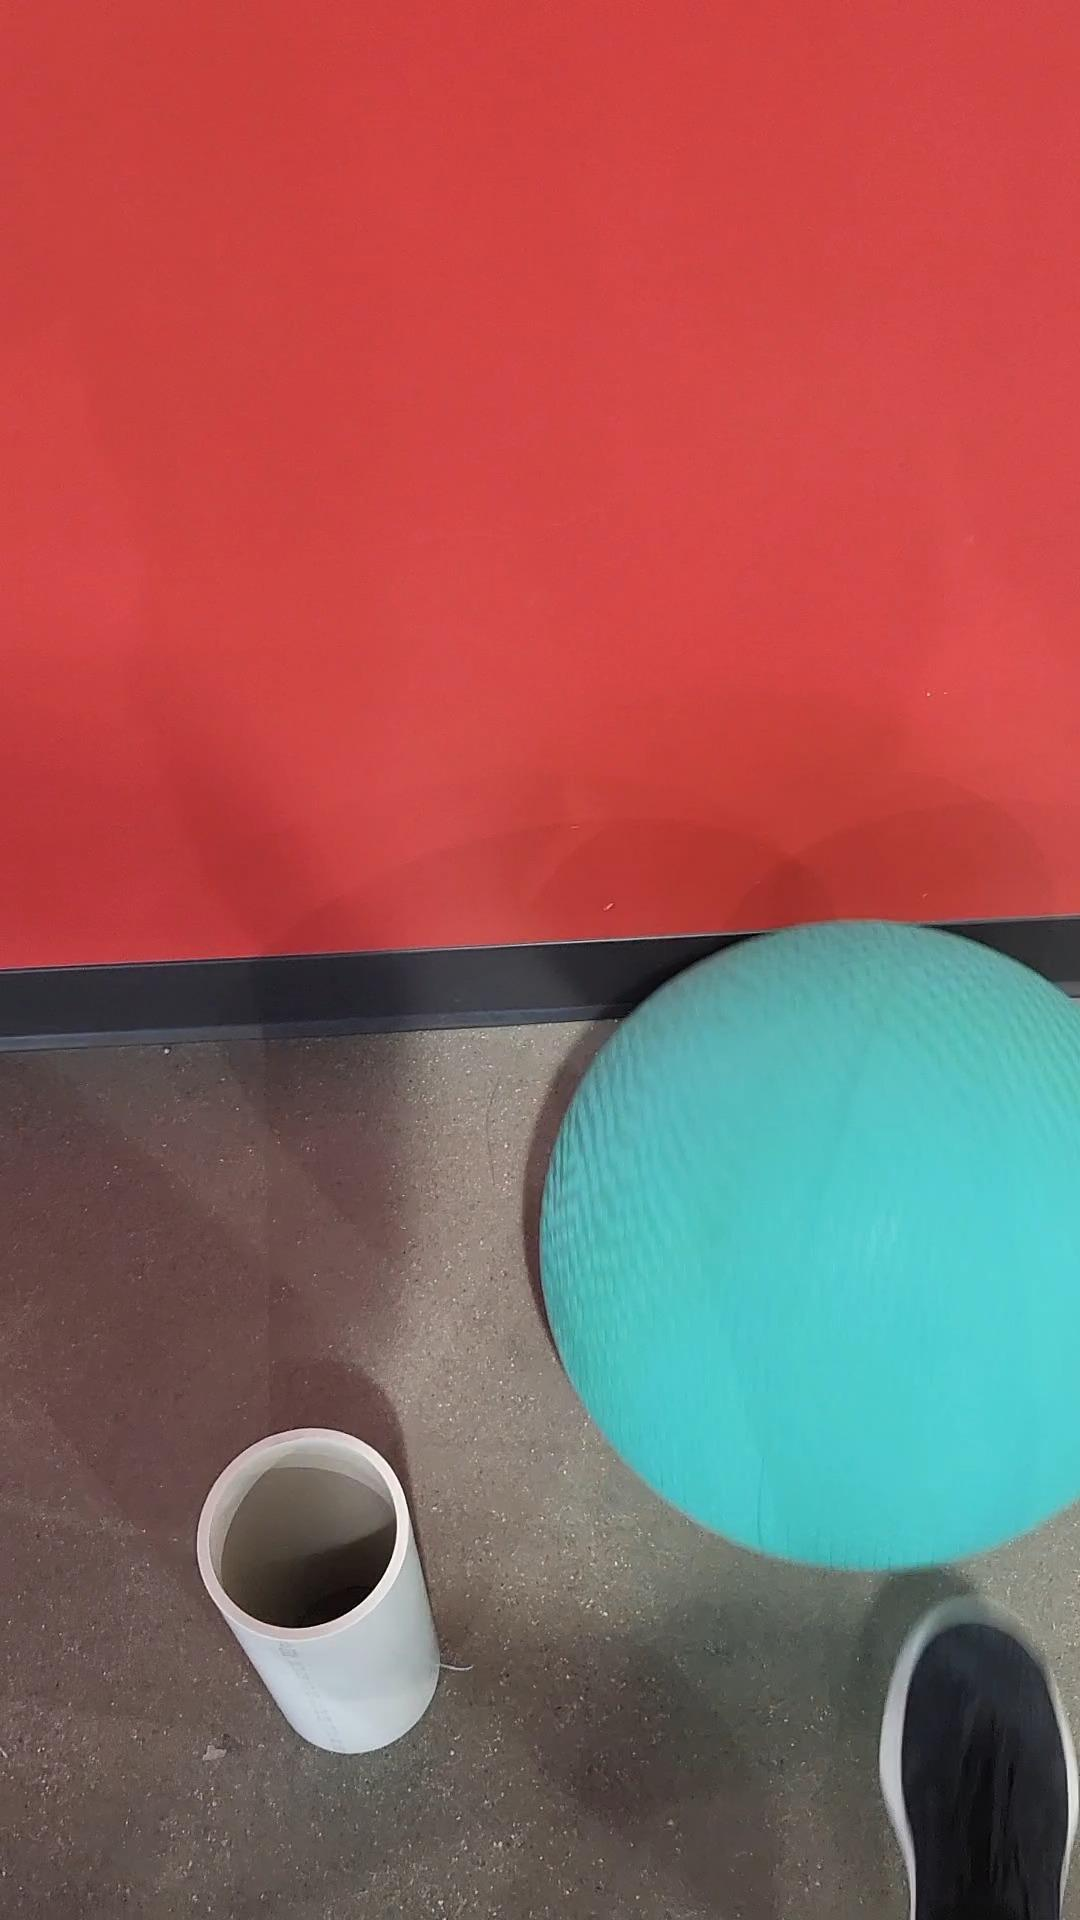algae: (532, 916, 1080, 1573)
coral: (192, 1428, 442, 1756)
